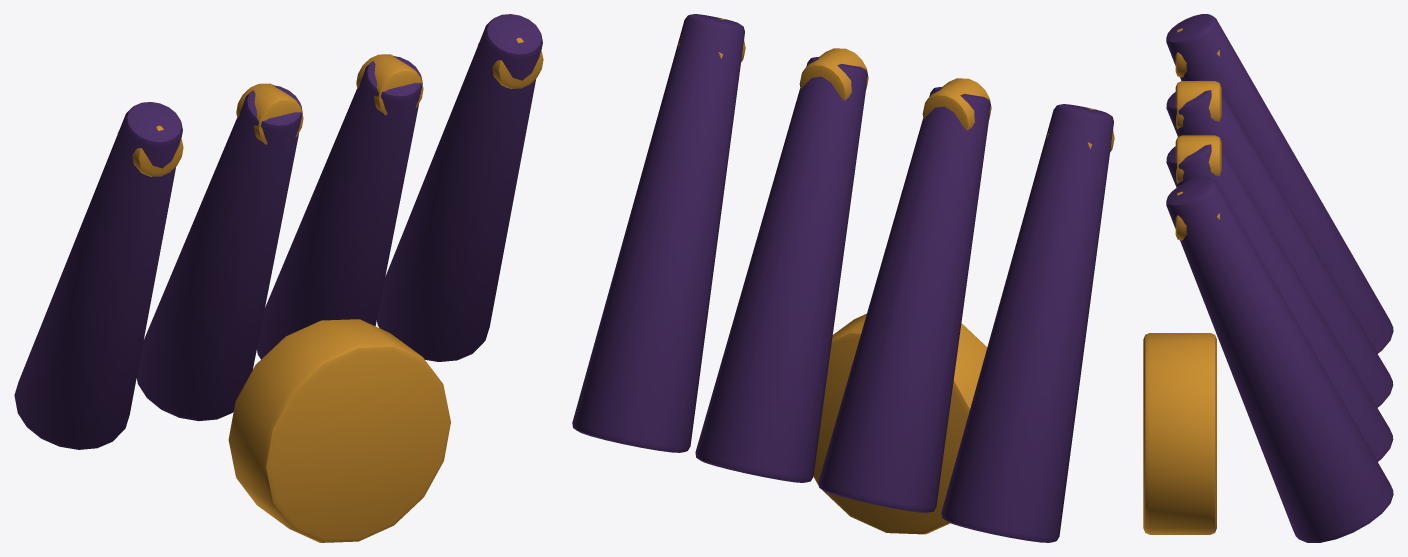
Rendered from MortarB1.obj.
3 views of the same model, side by side, from view 1: azimuth 30°, elevation 25°; view 2: azimuth 150°, elevation 25°; view 3: azimuth 270°, elevation 25° (orthographic). The views are drawn at different scales.
Visible parts, largest first — view 1: MortarB1; view 2: MortarB1; view 3: MortarB1.
Boxes of the visible parts, x1,y1,x2,y2 form: MortarB1: (14,14,543,542); MortarB1: (572,14,1114,542); MortarB1: (1143,14,1393,542).
Bounding box in the file's own units: 1.07 × 1.02 × 0.5443.
